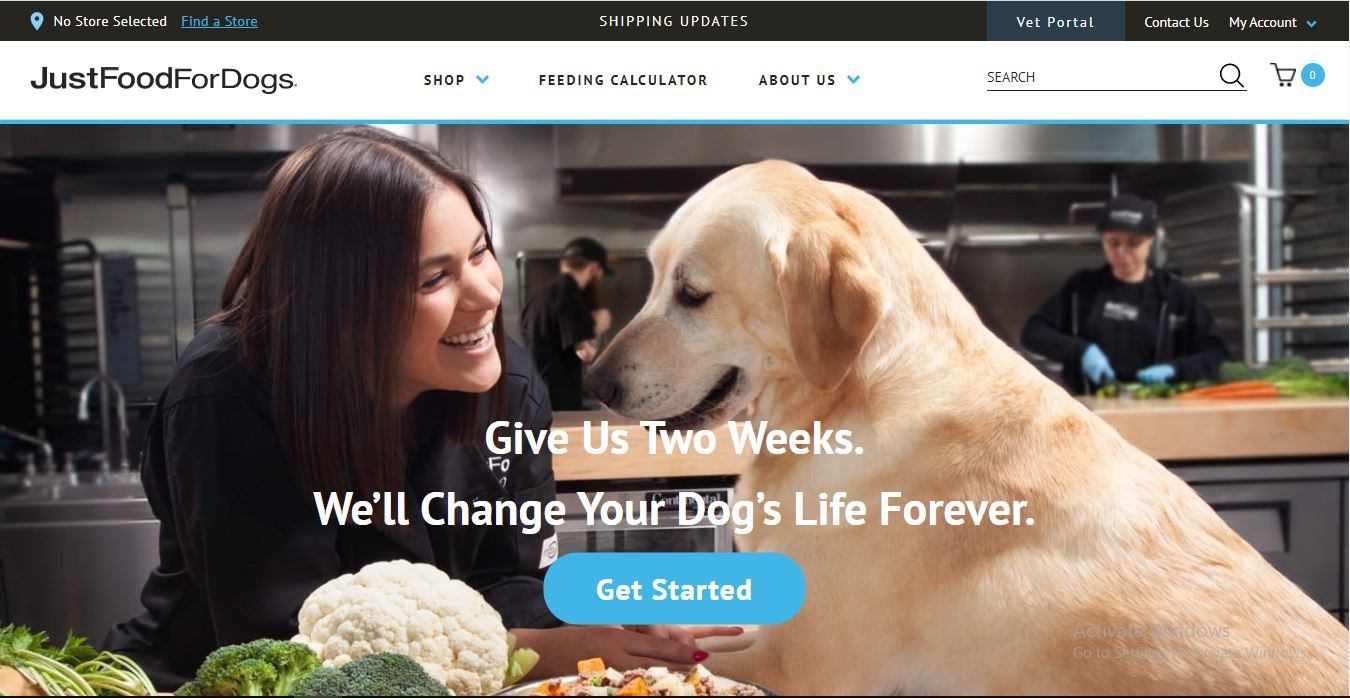Button: (540, 552, 808, 628)
Image: (2, 124, 1350, 698)
Menu Bar: (414, 46, 876, 102)
Nav Bar: (986, 7, 1318, 40), (1262, 44, 1338, 98)
Text Field: (980, 50, 1250, 98)
